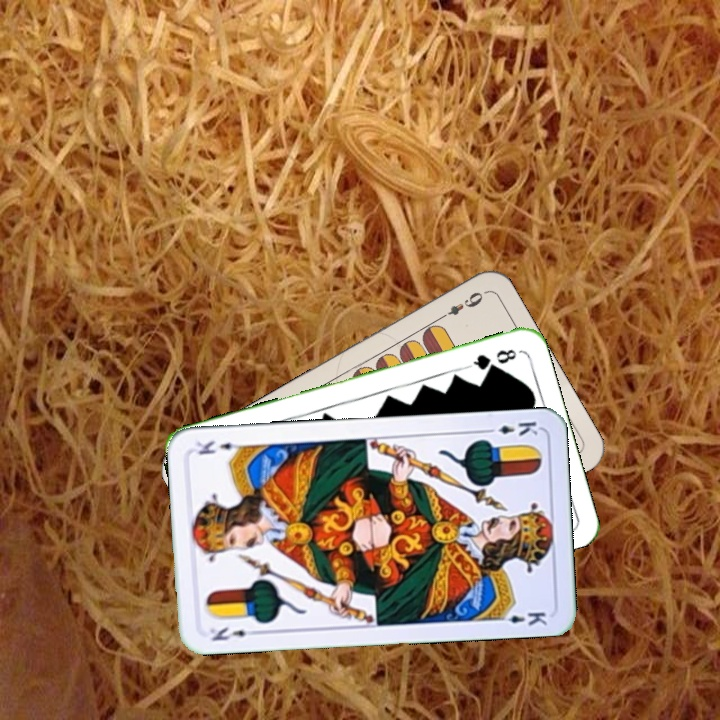E9: (434, 287, 486, 323)
EK: (481, 417, 540, 439), (205, 623, 261, 644)
G8: (464, 345, 519, 373)
